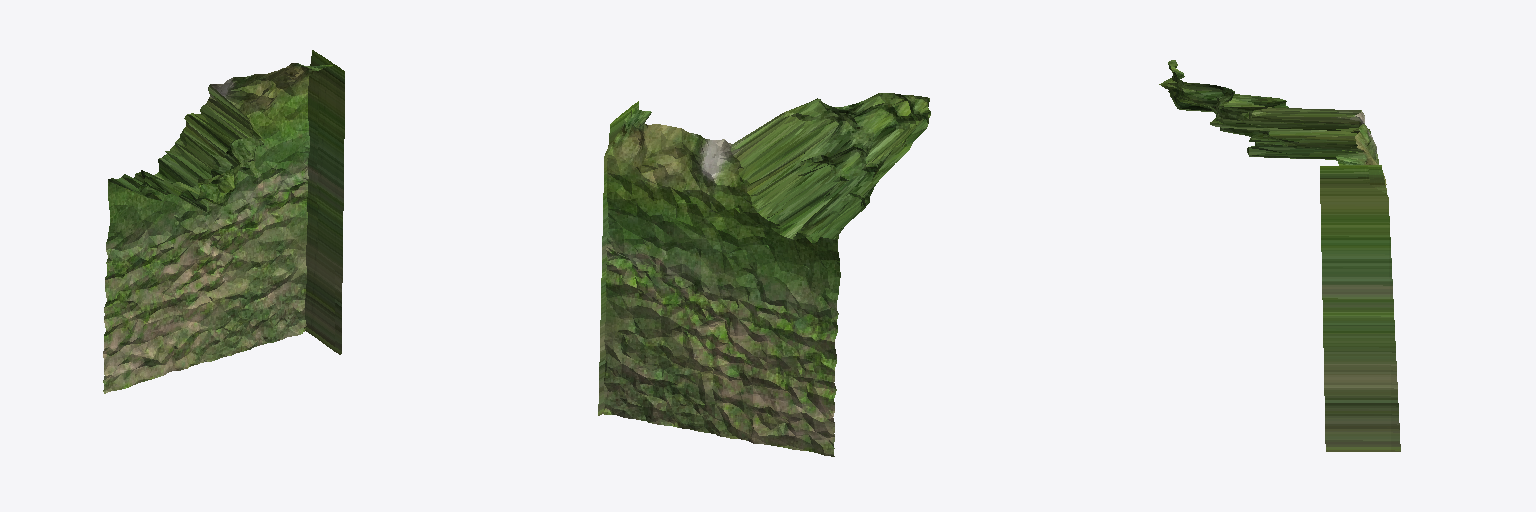
3 renders of one model, left to right at view 1: azimuth 30°, elevation 25°; view 2: azimuth 150°, elevation 25°; view 3: azimuth 270°, elevation 25°, orthographic.
Visible parts, largest first — view 1: grp1; view 2: grp1; view 3: grp1.
Part boxes in pixels (x1,y1,x2,y2): grp1: (103, 50, 344, 393); grp1: (598, 93, 930, 456); grp1: (1159, 60, 1400, 451).
Size of the model in its own units: 8 by 10 by 7.66.
Materials: 1 (1 with a texture image).